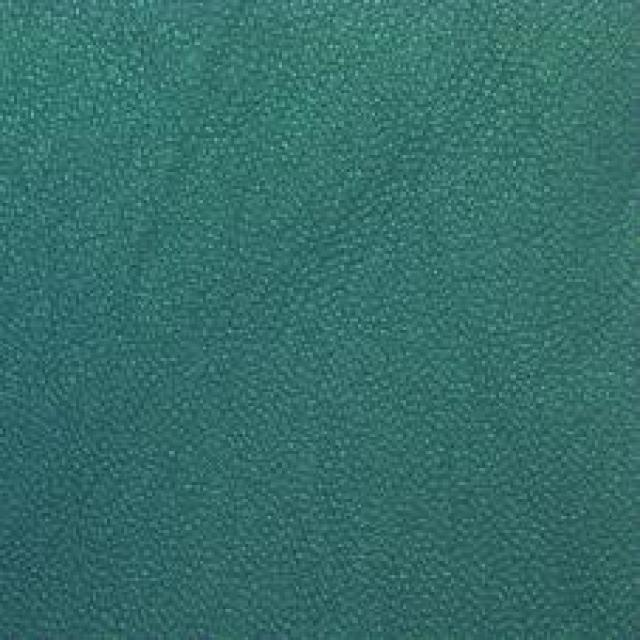Growth Marks: (258, 60, 520, 355)
